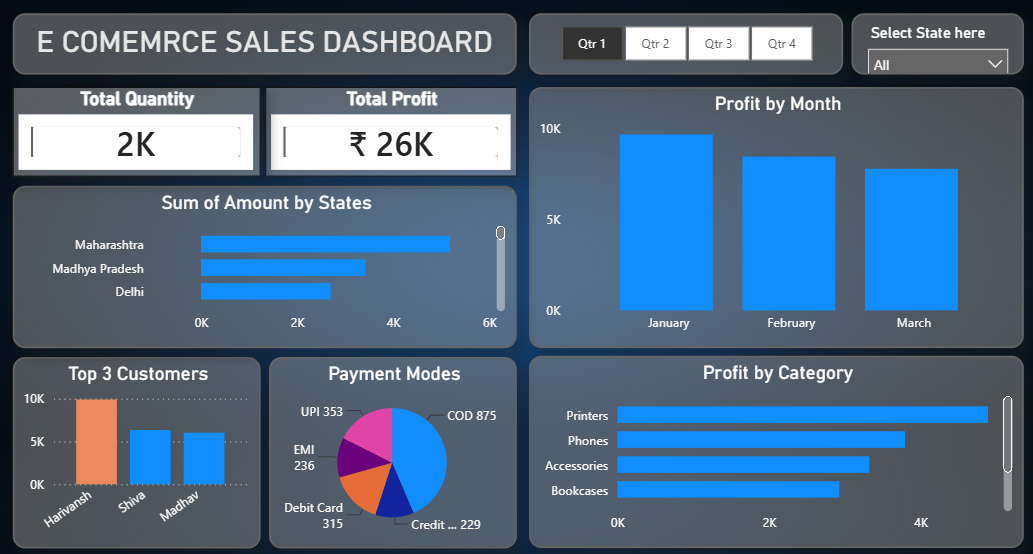

This screenshot's page, from the dashboard's own definition file:
{"tool":"powerbi","page":{"name":"Page 1","canvas":[1280,720],"ordinal":0},"visuals":[{"type":"columnChart","title":"Profit by Month","fields":{"Category":["Orders.Order Date.Variation.Date Hierarchy.Month"],"Y":["Sum(Details.Profit)"]},"box":[651.1,173.3,477.8,252.2],"z":0},{"type":"textbox","box":[153.3,102.2,486.7,58.9],"z":1000},{"type":"clusteredBarChart","title":"Profit by Category","fields":{"Y":["Sum(Details.Profit)"],"Category":["Details.Sub-Category"]},"box":[651.1,433.3,477.8,185.6],"z":2000},{"type":"columnChart","title":"Top 3 Customers","fields":{"Category":["Orders.CustomerName"],"Y":["Sum(Details.Amount)"]},"box":[153.3,434.4,238.9,184.4],"z":3000},{"type":"clusteredBarChart","title":"Sum of Amount by States","fields":{"Y":["Sum(Details.Profit)"],"Category":["Orders.State"]},"box":[153.3,268.9,486.7,156.7],"z":4000},{"type":"pieChart","title":"Payment Modes","fields":{"Y":["Sum(Details.Quantity)"],"Series":["Details.PaymentMode"]},"box":[401.1,434.4,238.9,184.4],"z":5000},{"type":"slicer","fields":{"Values":["Orders.Order Date.Variation.Date Hierarchy.Quarter"]},"box":[651.1,102.2,303.3,58.9],"z":6000},{"type":"cardVisual","title":"Total Profit","fields":{"Data":["Sum(Details.Profit)"]},"box":[396.7,173.3,243.3,86.7],"z":7000},{"type":"cardVisual","title":"Total Quantity","fields":{"Data":["Sum(Details.Quantity)"]},"box":[153.3,173.3,238.9,86.7],"z":8000},{"type":"slicer","fields":{"Values":["Orders.State"]},"box":[962.2,102.2,166.7,58.9],"z":9000}]}

Visuals, with their boxes on the page's 1280x720 design canvas (x1, y1, x2, y2). These are canvas units, not pixel positions in the 1033x554 screenshot, which may show the page scaled, cropped or inside an application window:
"Profit by Month" columnChart: box=[651, 173, 1129, 426]
textbox: box=[153, 102, 640, 161]
"Profit by Category" clusteredBarChart: box=[651, 433, 1129, 619]
"Top 3 Customers" columnChart: box=[153, 434, 392, 619]
"Sum of Amount by States" clusteredBarChart: box=[153, 269, 640, 426]
"Payment Modes" pieChart: box=[401, 434, 640, 619]
slicer - Orders.Order Date.Variation.Date Hierarchy.Quarter: box=[651, 102, 954, 161]
"Total Profit" cardVisual: box=[397, 173, 640, 260]
"Total Quantity" cardVisual: box=[153, 173, 392, 260]
slicer - Orders.State: box=[962, 102, 1129, 161]
